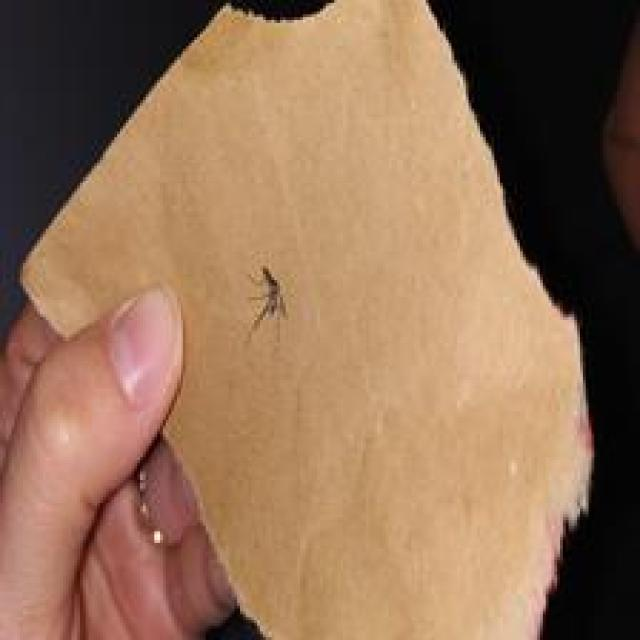Aedes albopictus: (247, 264, 290, 333)
